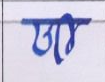i_matra: (60, 14, 73, 53)
